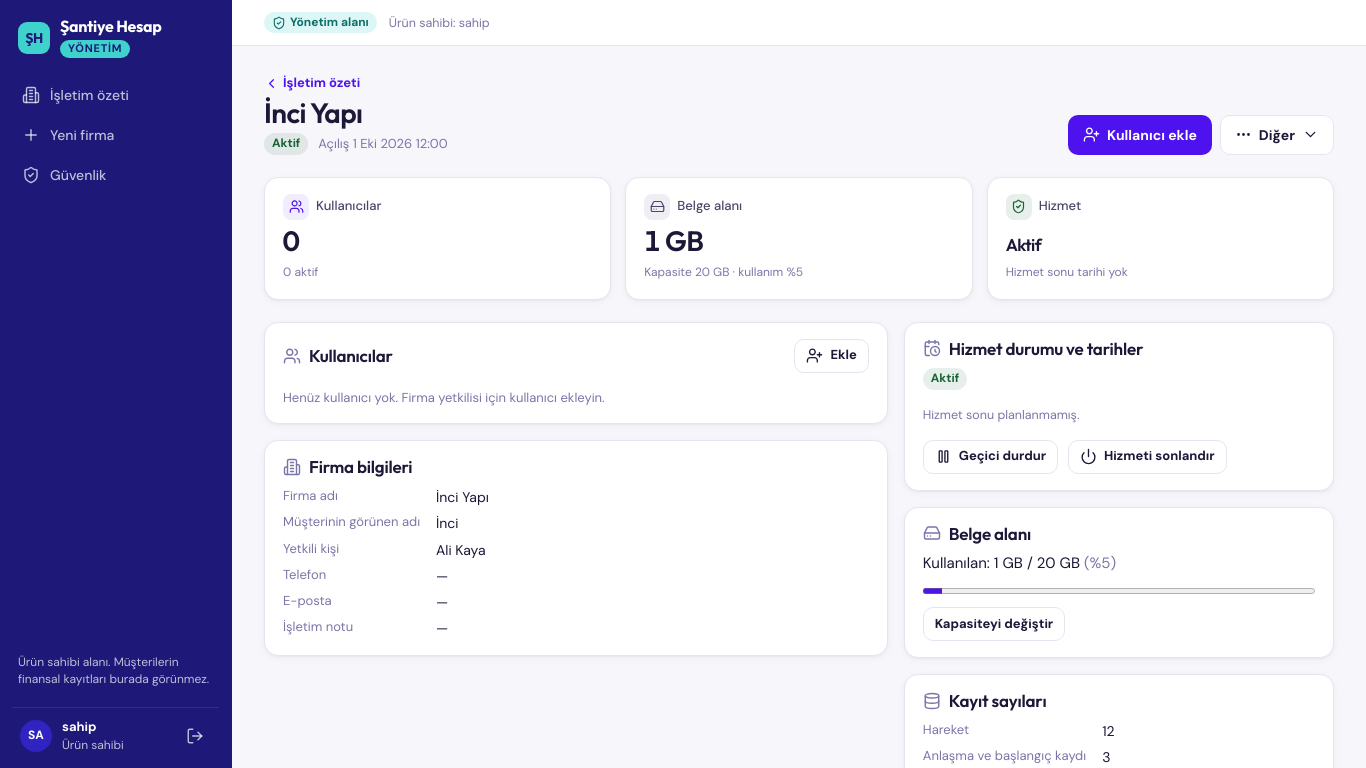
Scenario: kullanıcı ekleme ve şifre sıfırlama › aynı anahtarla tekrar gelen cevapta şifre yoktur; açıklama gösterilir
Click the button "Kullanıcı ekle": (1140, 135) 1068,115 -> 1212,155
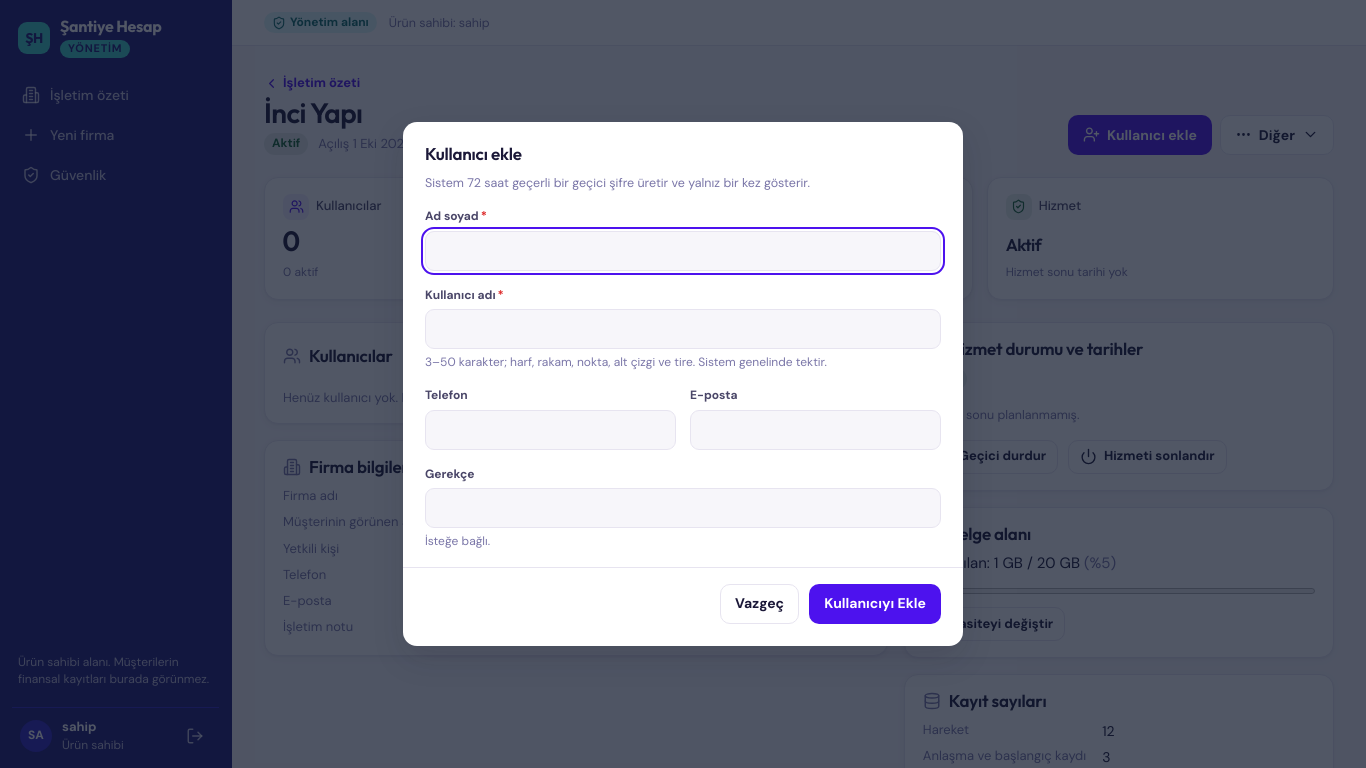
In the field labelled "Ad soyad*": (683, 250) 425,230 -> 941,270, type "Ayşe Demir"
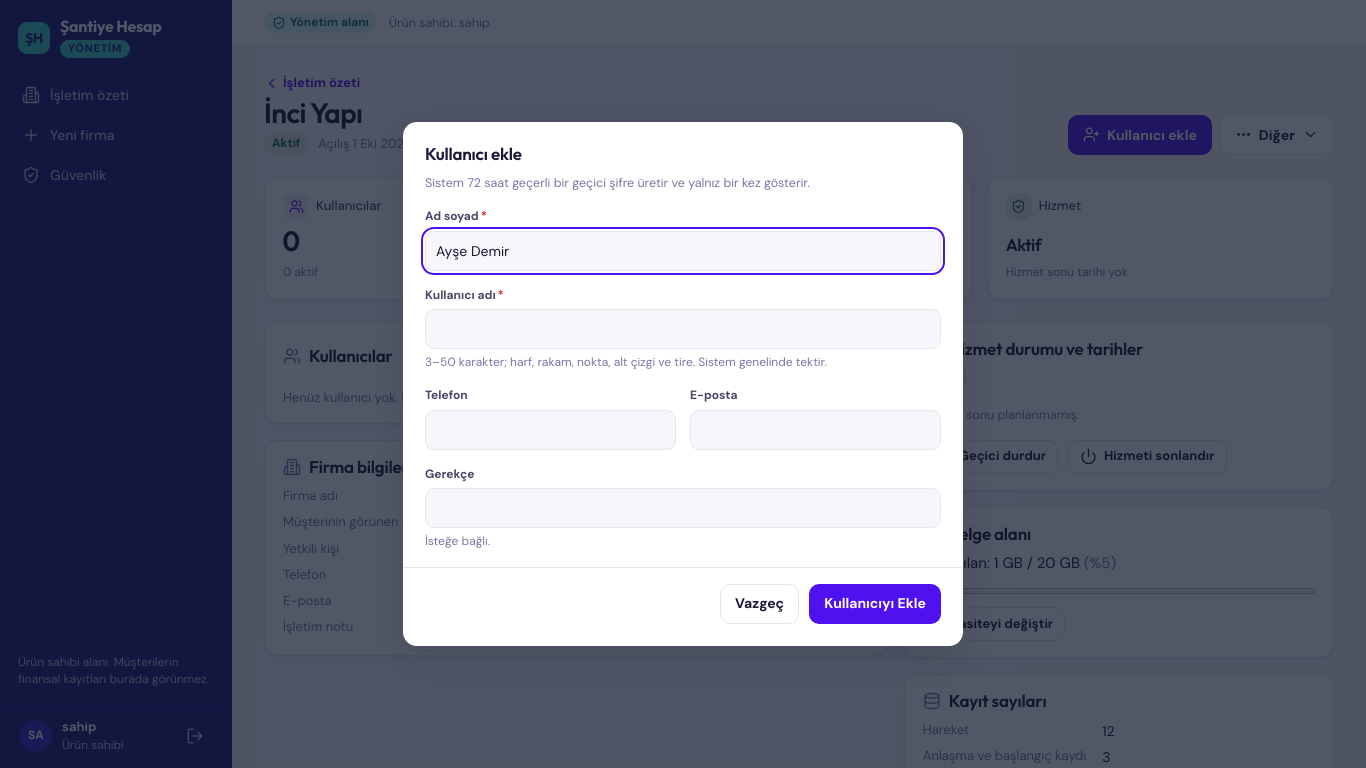
In the field labelled "Kullanıcı adı*": (683, 329) 425,309 -> 941,349, type "ayse.demir"
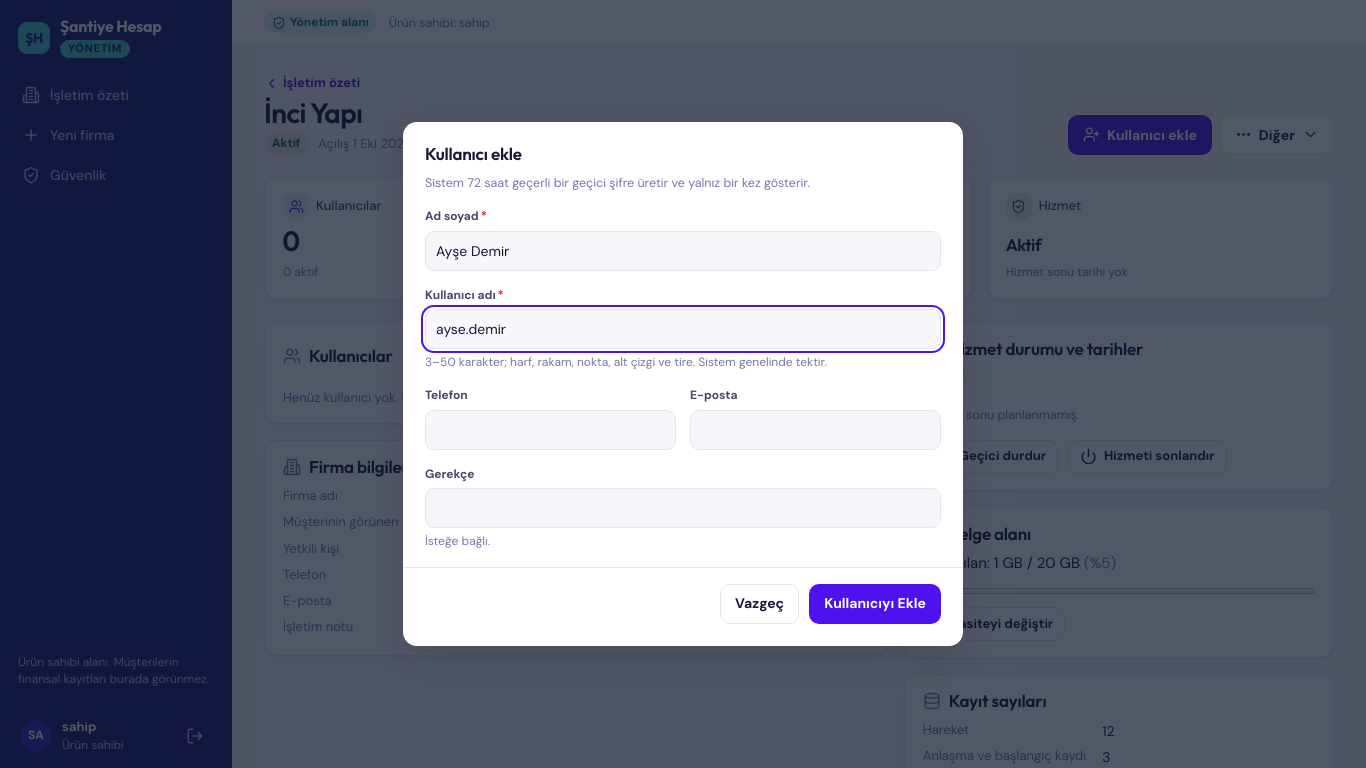
Click the button "Kullanıcıyı Ekle": (875, 604) 809,584 -> 941,624
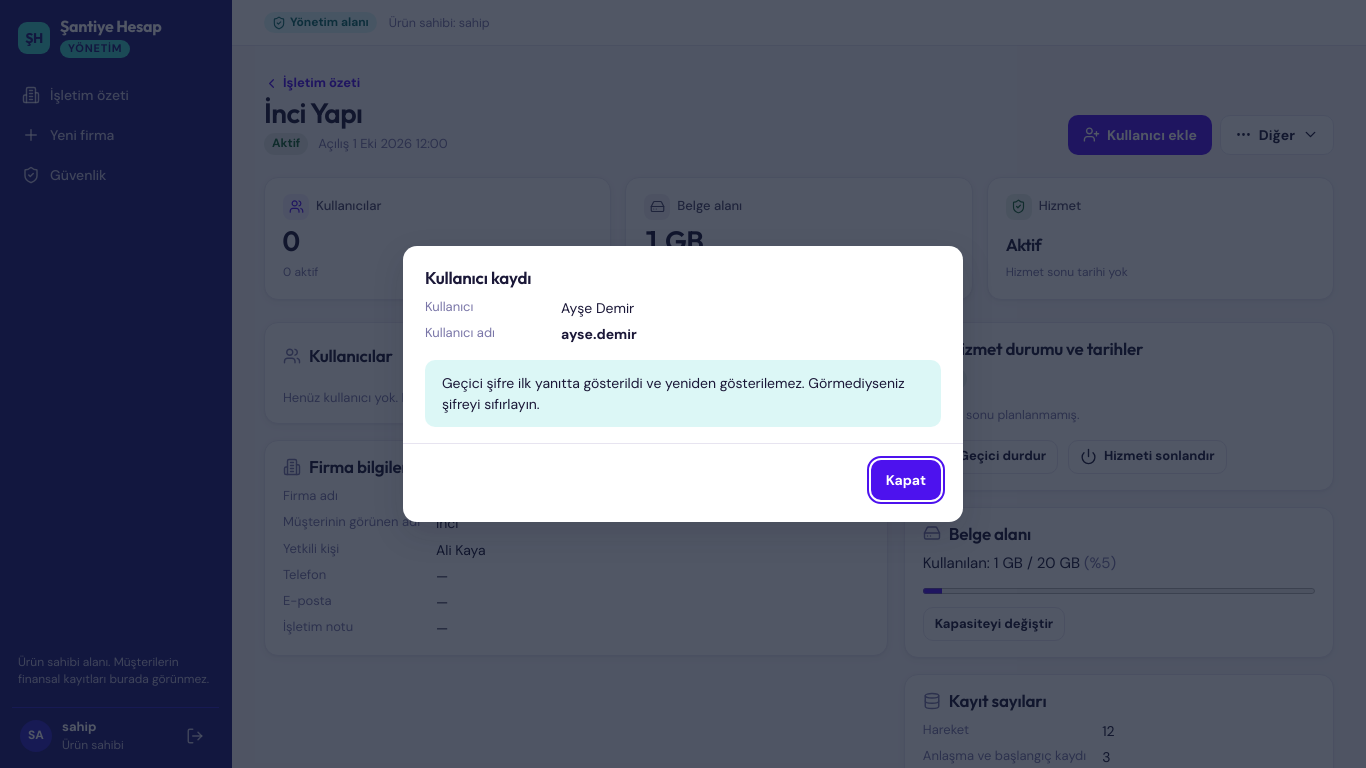
Expected: the text "Görmediyseniz şifreyi sıfırlayın" is shown, 442,374 -> 905,413
